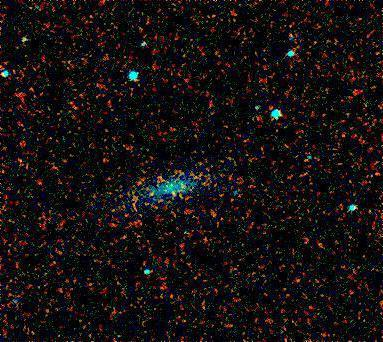star: (147, 178, 177, 208)
